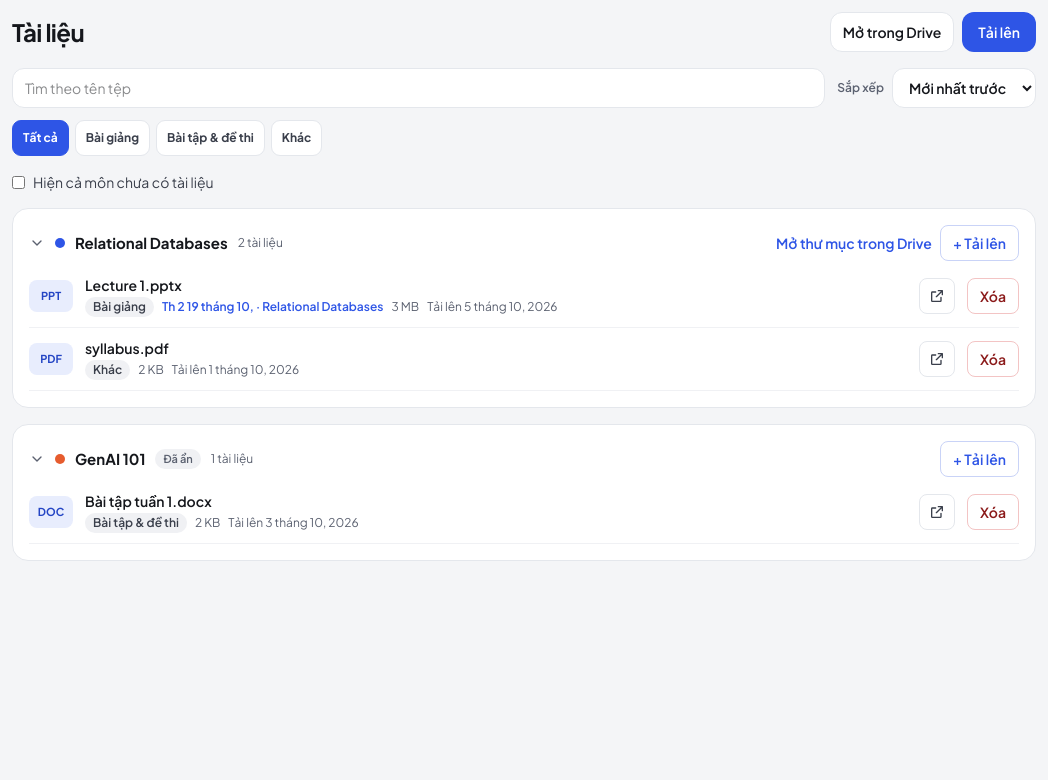
DocumentsPage › search ignores accents and case in vi
Expected: the element "GenAI 101" is shown, [12,424,1036,561]
Type "BAI TAP" into the search field named "Tìm tài liệu" at (419, 88), box [12,68,825,108]
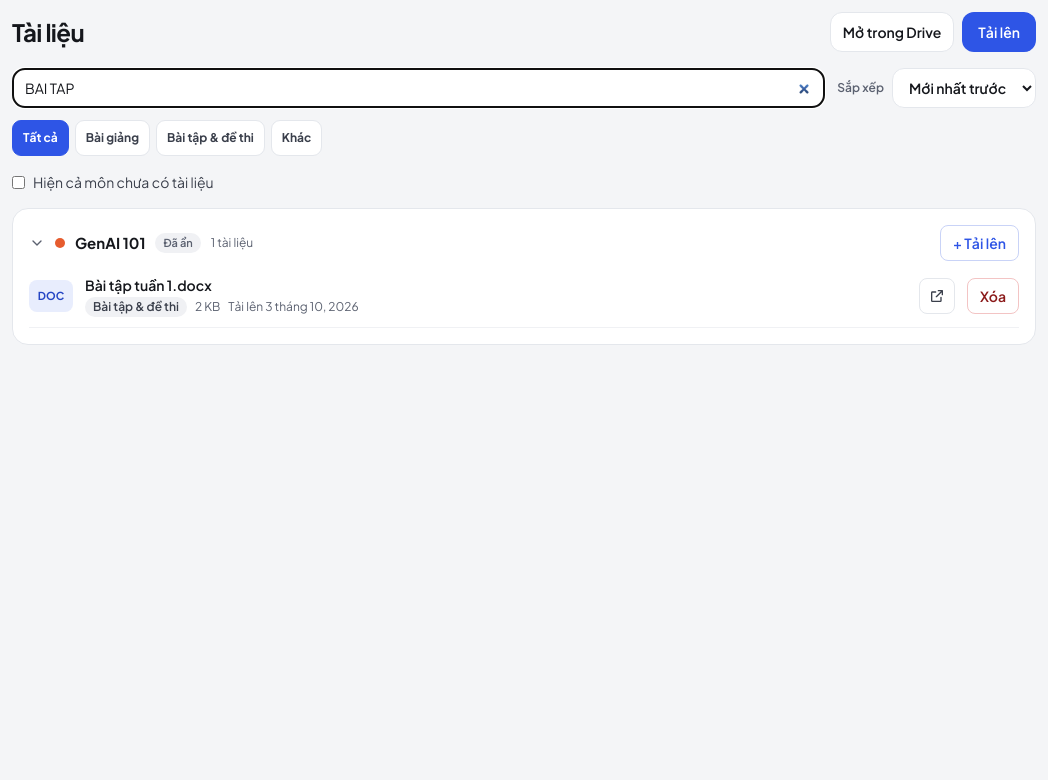
Expected: the button "Relational Databases" is gone
